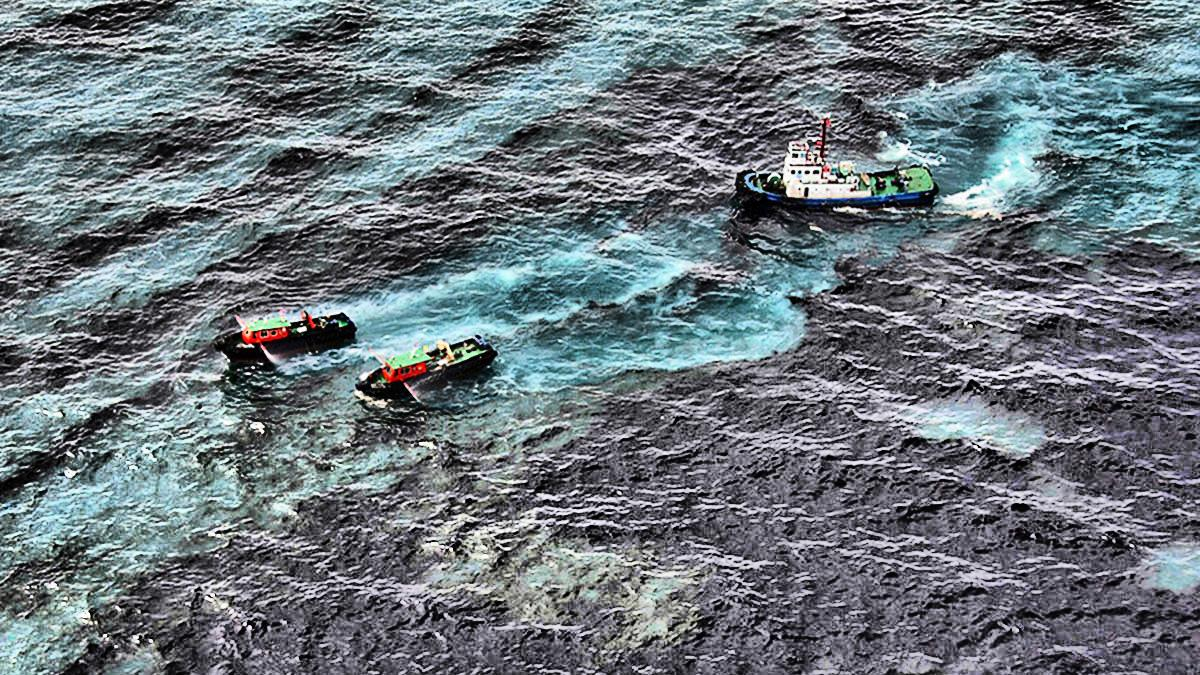truecolor: (0, 2, 1147, 503), (69, 222, 1200, 674)
